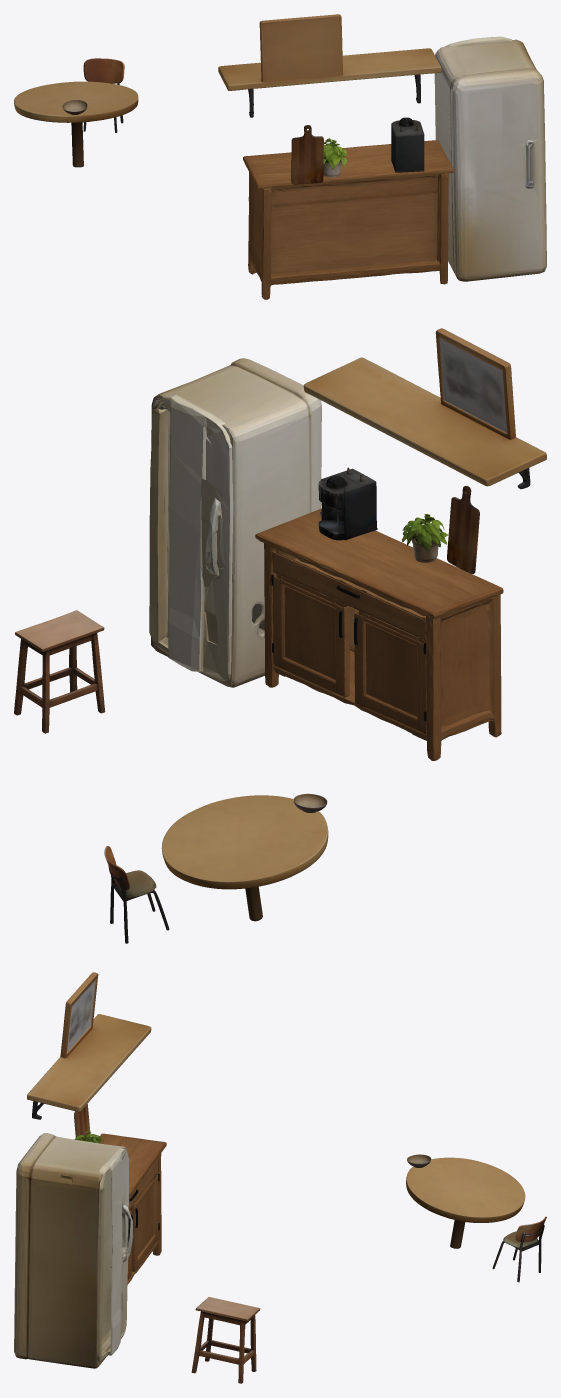
The model's file is kitchen.glb.
3 views of the same model, one above another, from view 1: azimuth 30°, elevation 25°; view 2: azimuth 150°, elevation 25°; view 3: azimuth 270°, elevation 25° (orthographic). The views are drawn at different scales.
Parts seen in each view (by area): view 1: obj_0_part_0, obj_1_part_0, obj_10_part_0, obj_4_part_0, obj_3_part_0, obj_7_part_0, obj_1_part_2, obj_5_part_0, obj_8_part_0, obj_0_part_1; view 2: obj_1_part_0, obj_0_part_1, obj_0_part_0, obj_10_part_0, obj_4_part_0, obj_1_part_1, obj_1_part_3, obj_6_part_0, obj_1_part_2, obj_3_part_0, obj_7_part_0, obj_5_part_0 (+1 smaller); view 3: obj_0_part_0, obj_10_part_0, obj_4_part_0, obj_0_part_1, obj_6_part_0, obj_1_part_0, obj_1_part_3, obj_5_part_0.
Part boxes in pixels (bbox=[...]): obj_0_part_0: bbox=[434, 39, 546, 281]; obj_1_part_0: bbox=[243, 140, 453, 299]; obj_10_part_0: bbox=[218, 14, 441, 117]; obj_4_part_0: bbox=[14, 81, 138, 167]; obj_3_part_0: bbox=[391, 117, 424, 172]; obj_7_part_0: bbox=[291, 125, 323, 184]; obj_1_part_2: bbox=[274, 179, 436, 207]; obj_5_part_0: bbox=[83, 58, 124, 132]; obj_8_part_0: bbox=[323, 138, 347, 177]; obj_0_part_1: bbox=[445, 36, 512, 47]; obj_1_part_0: bbox=[255, 508, 503, 760]; obj_0_part_1: bbox=[149, 394, 233, 681]; obj_0_part_0: bbox=[151, 358, 321, 687]; obj_10_part_0: bbox=[303, 328, 546, 489]; obj_4_part_0: bbox=[161, 795, 328, 921]; obj_1_part_1: bbox=[271, 574, 349, 700]; obj_1_part_3: bbox=[354, 610, 426, 740]; obj_6_part_0: bbox=[14, 610, 105, 733]; obj_1_part_2: bbox=[269, 551, 426, 640]; obj_3_part_0: bbox=[318, 467, 377, 540]; obj_7_part_0: bbox=[447, 486, 479, 573]; obj_5_part_0: bbox=[104, 846, 169, 943]; obj_0_part_0: bbox=[14, 1133, 126, 1368]; obj_10_part_0: bbox=[27, 972, 151, 1119]; obj_4_part_0: bbox=[406, 1157, 525, 1248]; obj_0_part_1: bbox=[97, 1148, 133, 1361]; obj_6_part_0: bbox=[191, 1297, 260, 1383]; obj_1_part_0: bbox=[100, 1133, 166, 1284]; obj_1_part_3: bbox=[130, 1173, 159, 1272]; obj_5_part_0: bbox=[492, 1216, 546, 1282].
Bounding box in the file's own units: 4.05 × 3.18 × 5.6.
Materials: 7 (6 with a texture image).
